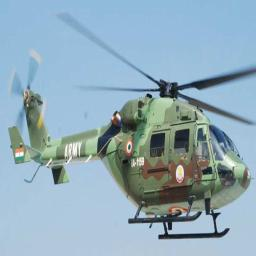helicopter: (7, 11, 256, 250)
